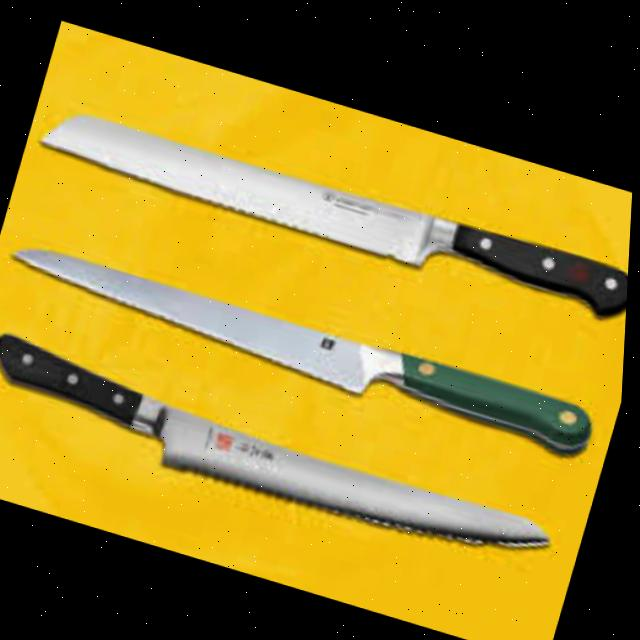Knife: (0, 325, 572, 568), (30, 91, 636, 317), (0, 230, 607, 451)
